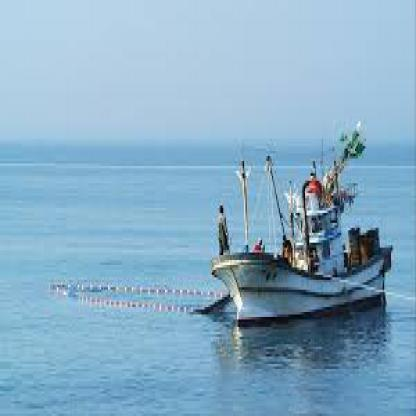fish-b: (196, 111, 402, 342)
